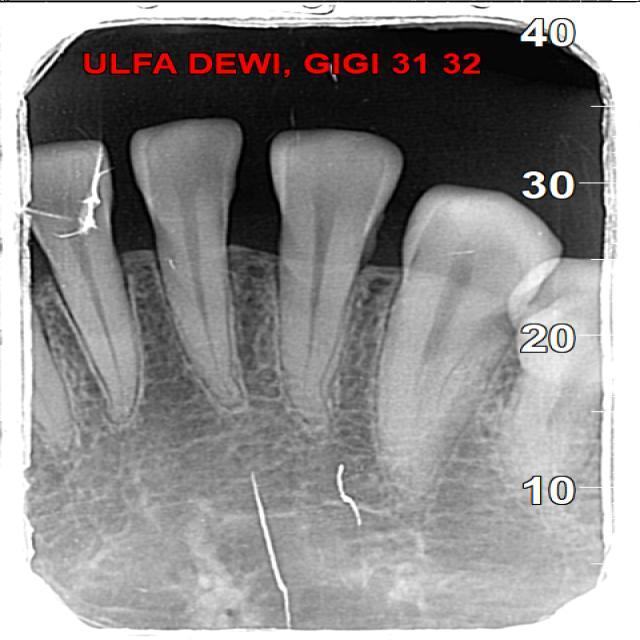individual-tooth-8tto: (370, 188, 566, 506), (271, 129, 407, 442), (17, 136, 138, 428), (135, 126, 246, 406)
